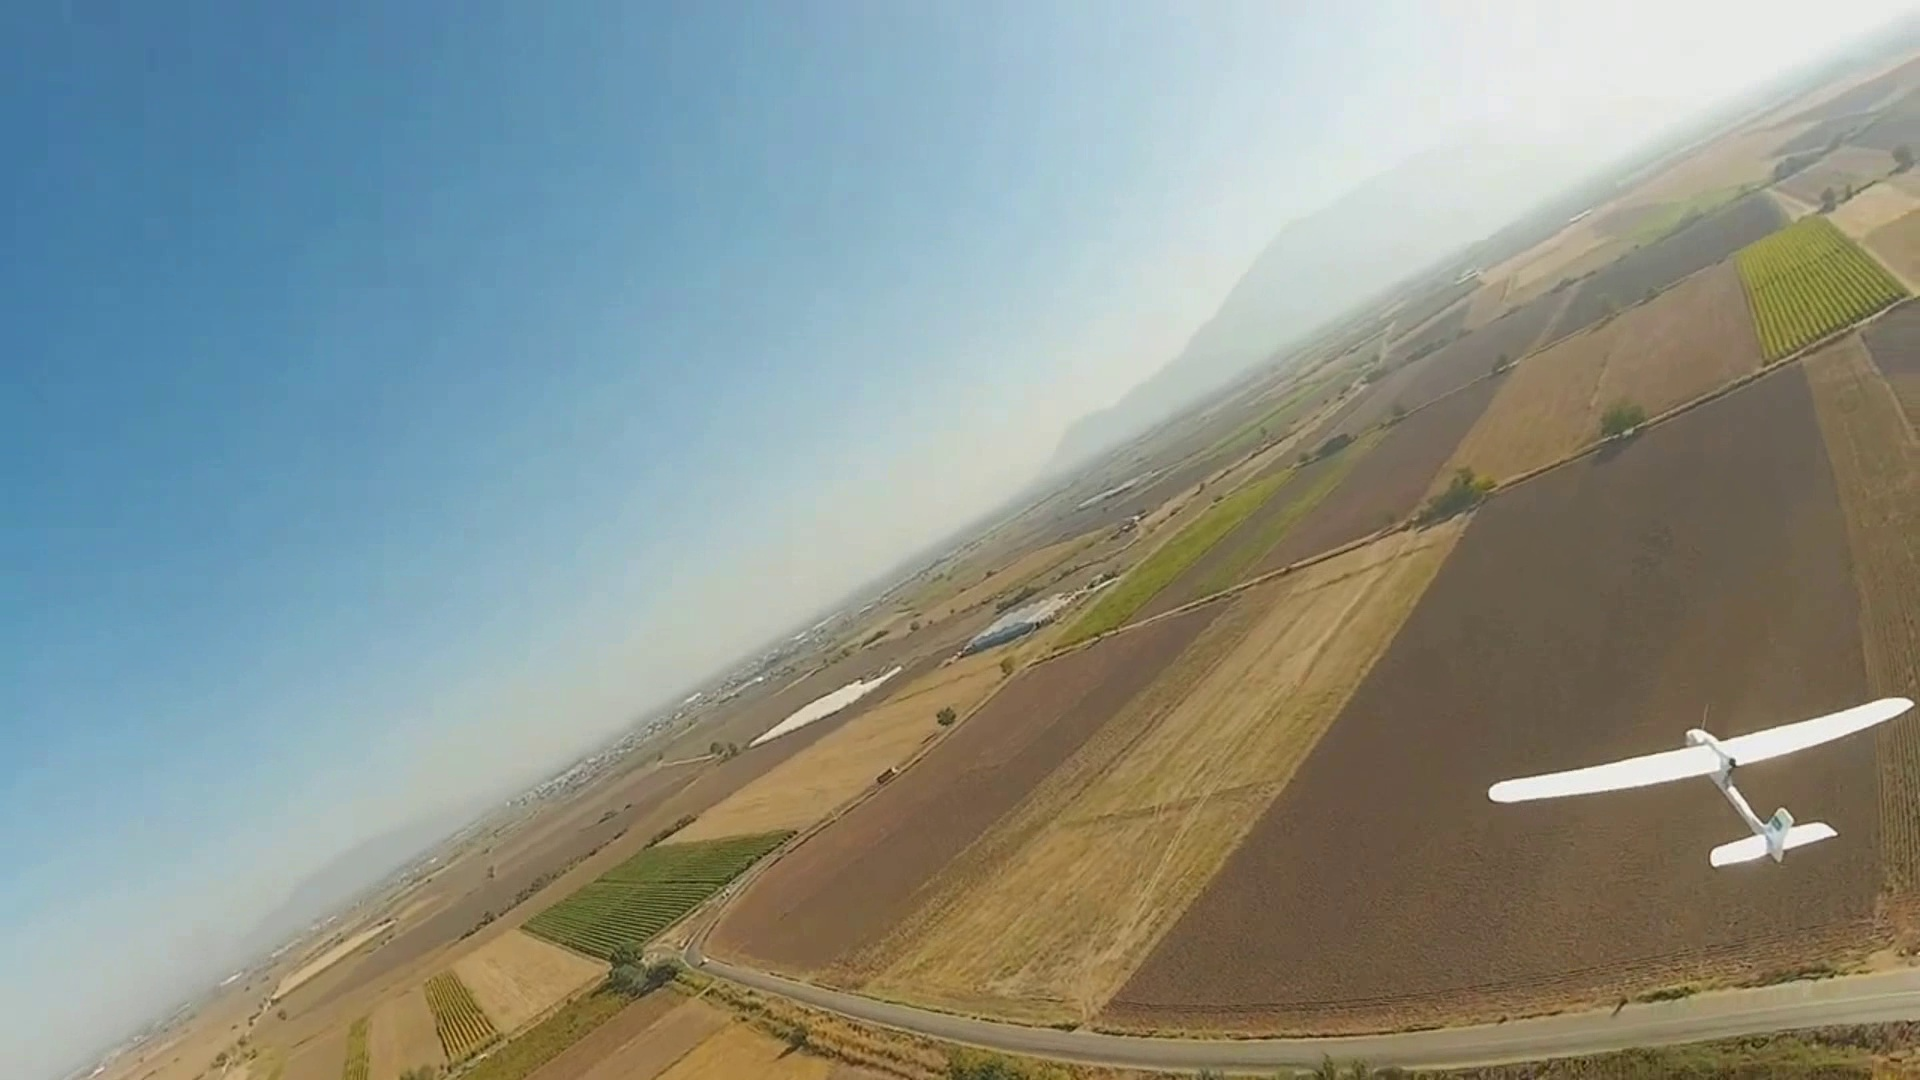airplane: (1487, 698, 1916, 872)
